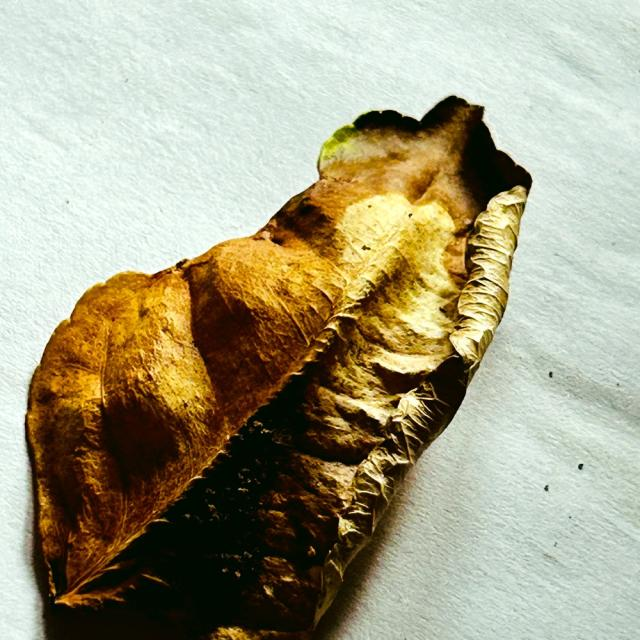DryLeaf_Lemon: (26, 96, 531, 639)
